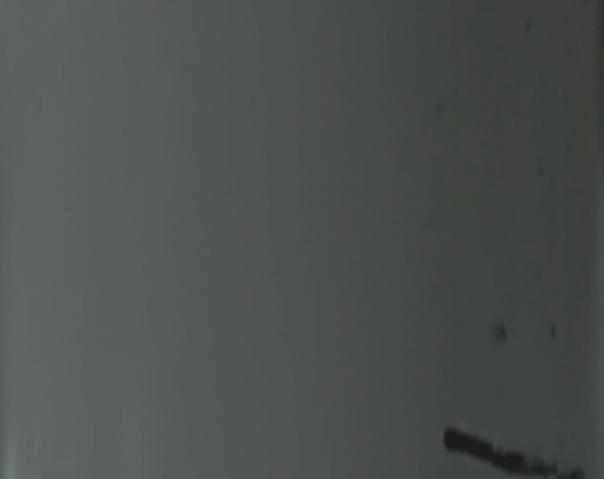fengxi: (437, 418, 604, 479)
